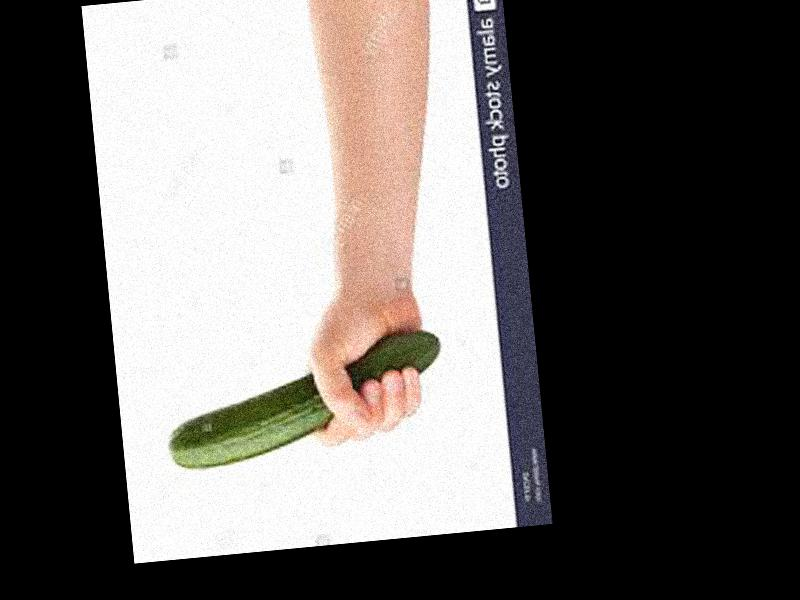Cucumber: (161, 331, 449, 472)
